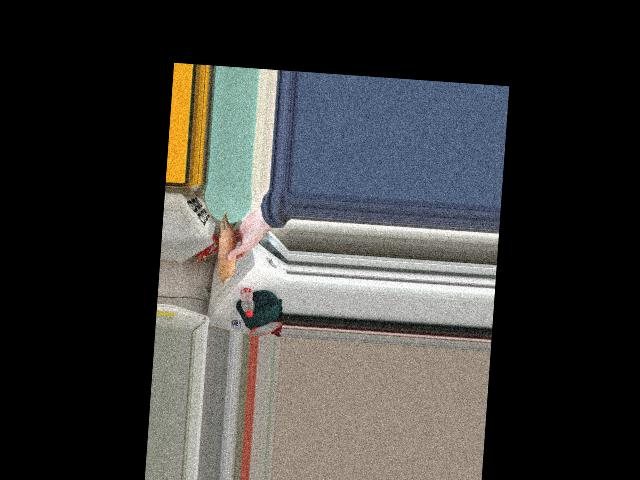sweet_potato: (215, 211, 243, 279)
